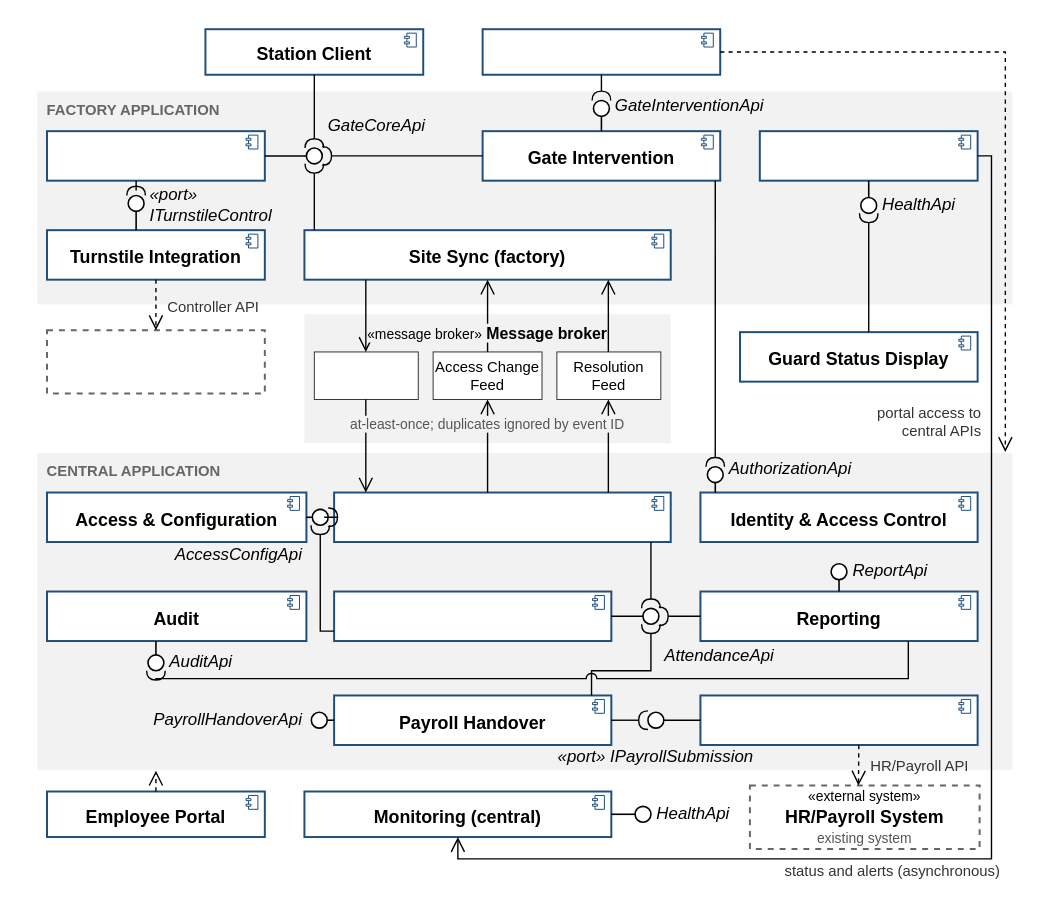
The diagram is 1037 pixels wide and 897 high, and some of its shapes have lost their labels. The shapes that lost their labels are listed below. From the top down, each one's box as (x1, y1, x2, y2) in pixels, then its label:
(481, 28, 721, 75): Back-office Portal
(46, 130, 265, 181): Gate Core
(758, 130, 978, 181): Monitoring (factory)
(46, 329, 265, 394): «external system» Turnstile controller existing system
(313, 351, 418, 399): Gate Event Feed
(333, 491, 671, 543): Site Sync (central)
(333, 590, 612, 642): Attendance
(699, 694, 978, 745): HR/Payroll Integration
